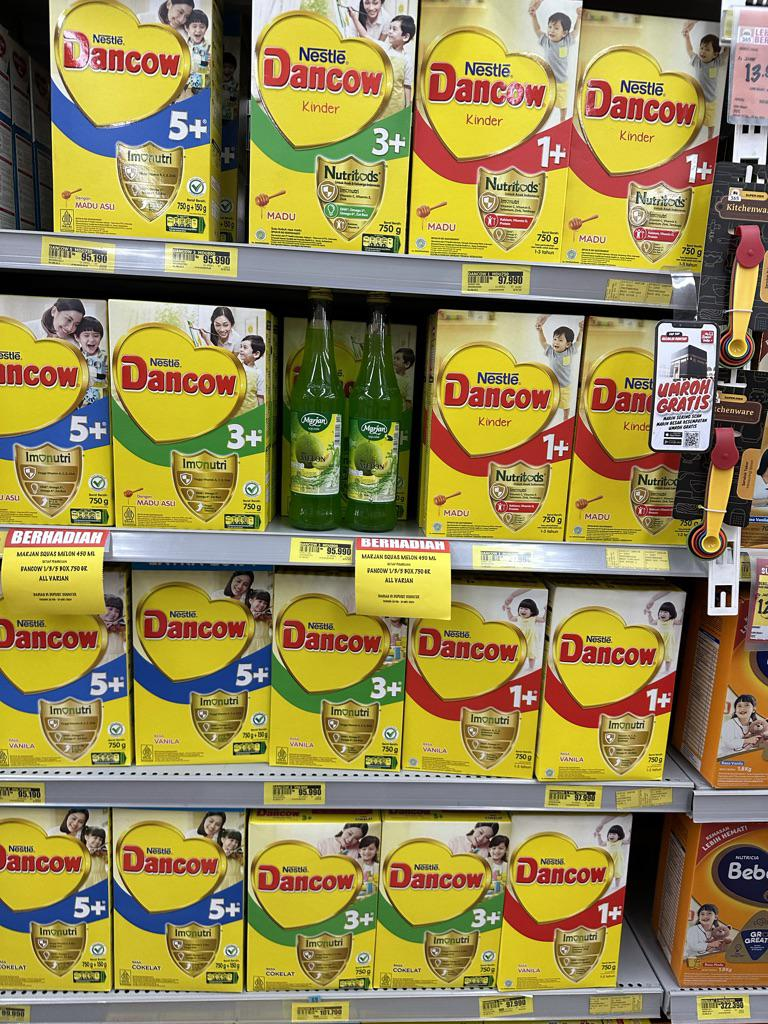DANCOW 1+ Van Advn ExcNutr 12x800g N1 ID_REDESIGN3: (537, 586, 681, 783), (403, 584, 544, 780), (498, 811, 627, 990)
DANCOW 3+ Madu Advn ExcNutr 12x800g ID_REDESIGN3: (110, 301, 271, 529)
DANCOW 3+ Van Advn ExcNutr 12x800g ID_REDESIGN3: (269, 582, 406, 775), (247, 820, 375, 992), (377, 818, 503, 990)
DANCOW 5+ Madu Advn ExcNutr 12x800g ID_REDESIGN3: (52, 0, 211, 238)
